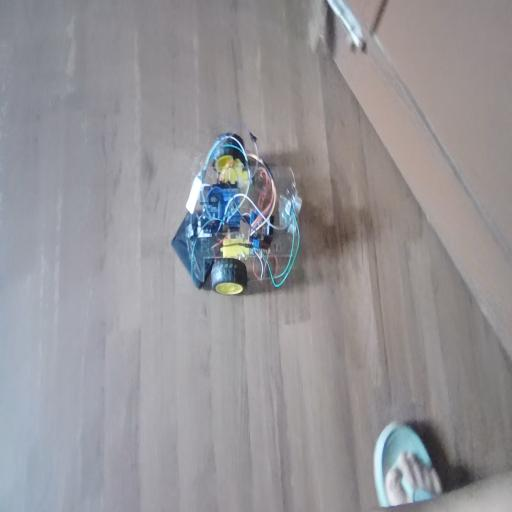car: (173, 141, 305, 287)
